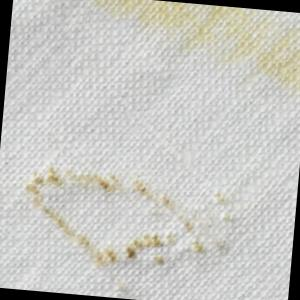Oil Stain: (13, 159, 239, 300)
Stain: (64, 1, 300, 102)
